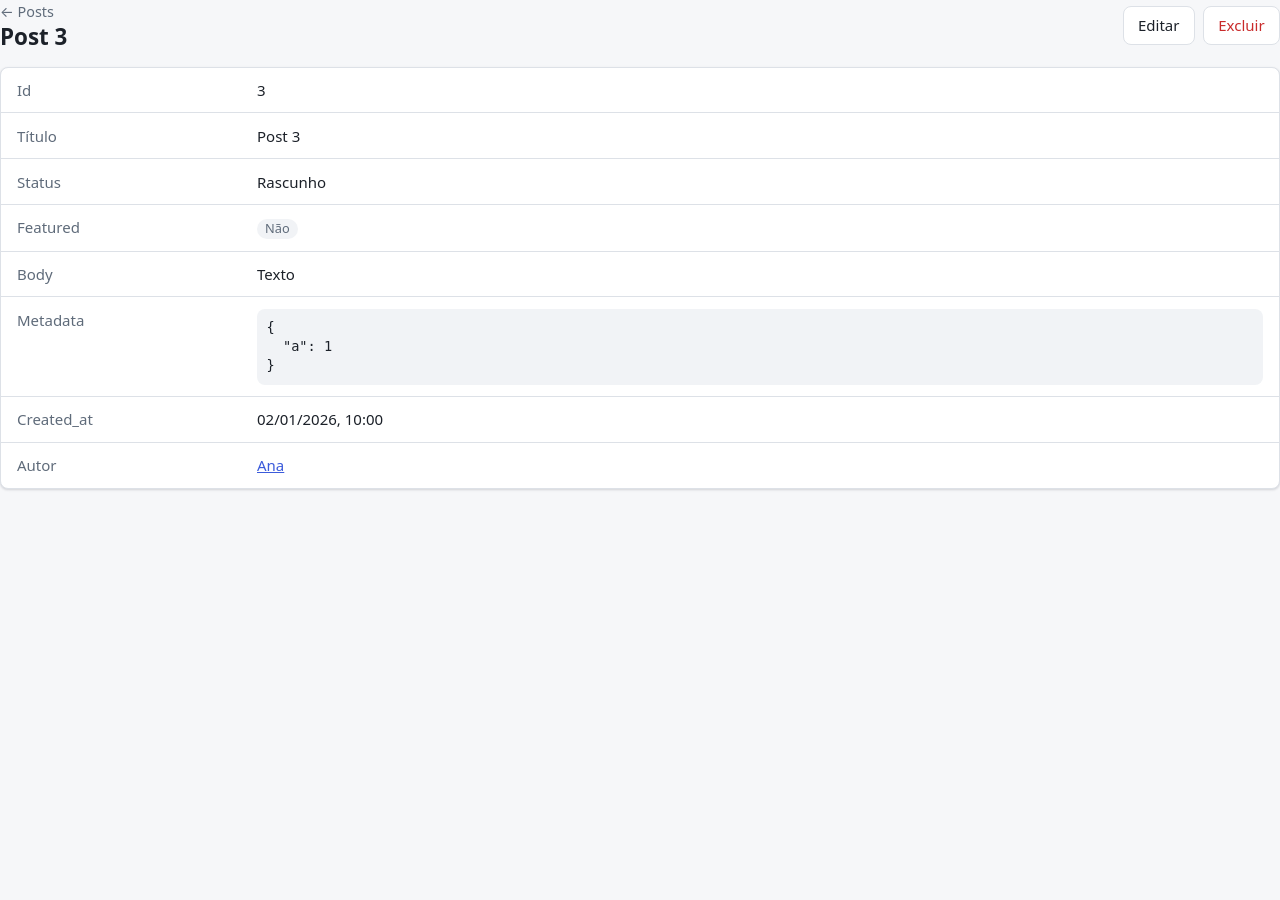
Test: cancels deletion with Escape
Click the button "Excluir" at (1241, 25), box [1203,6,1279,45]
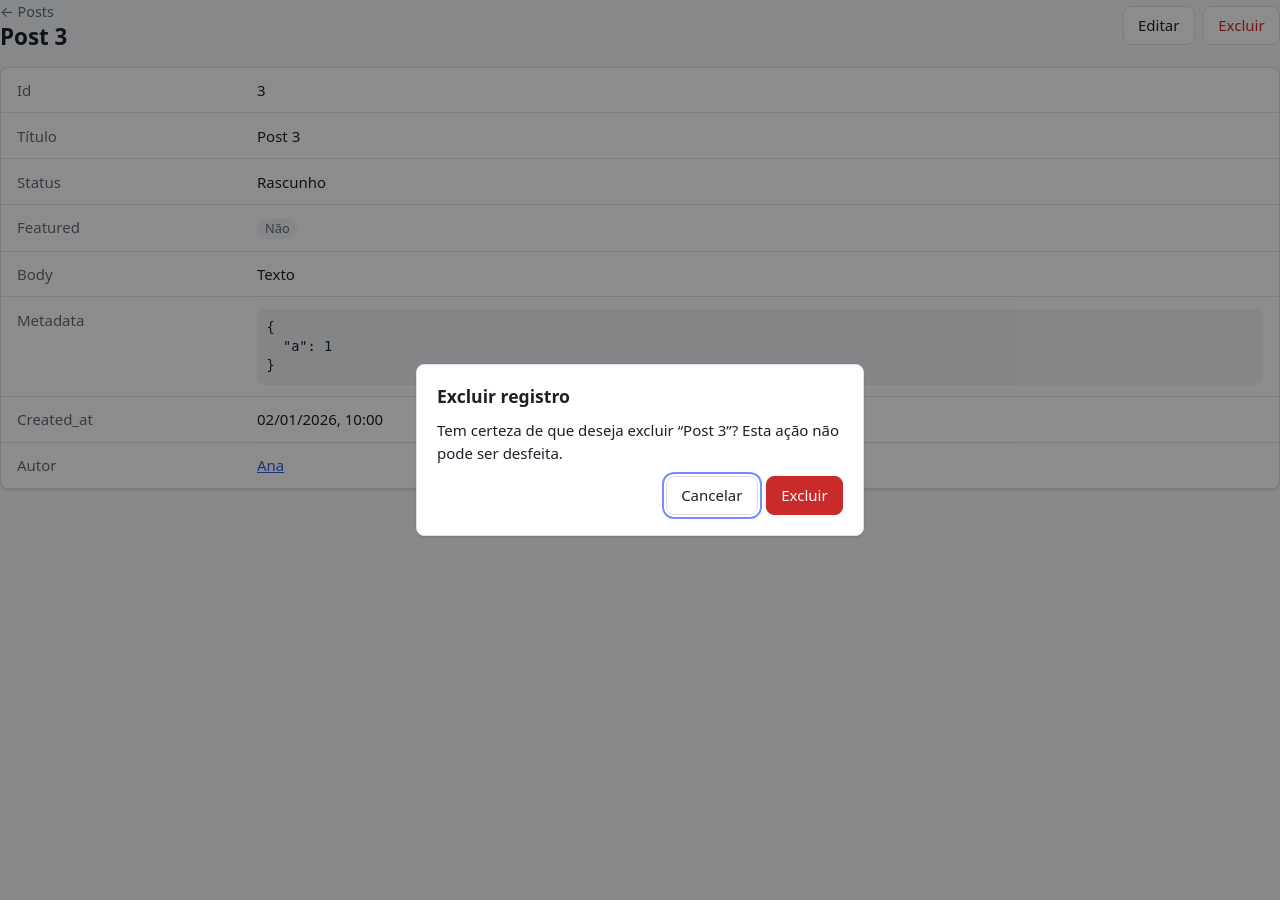
Press Escape
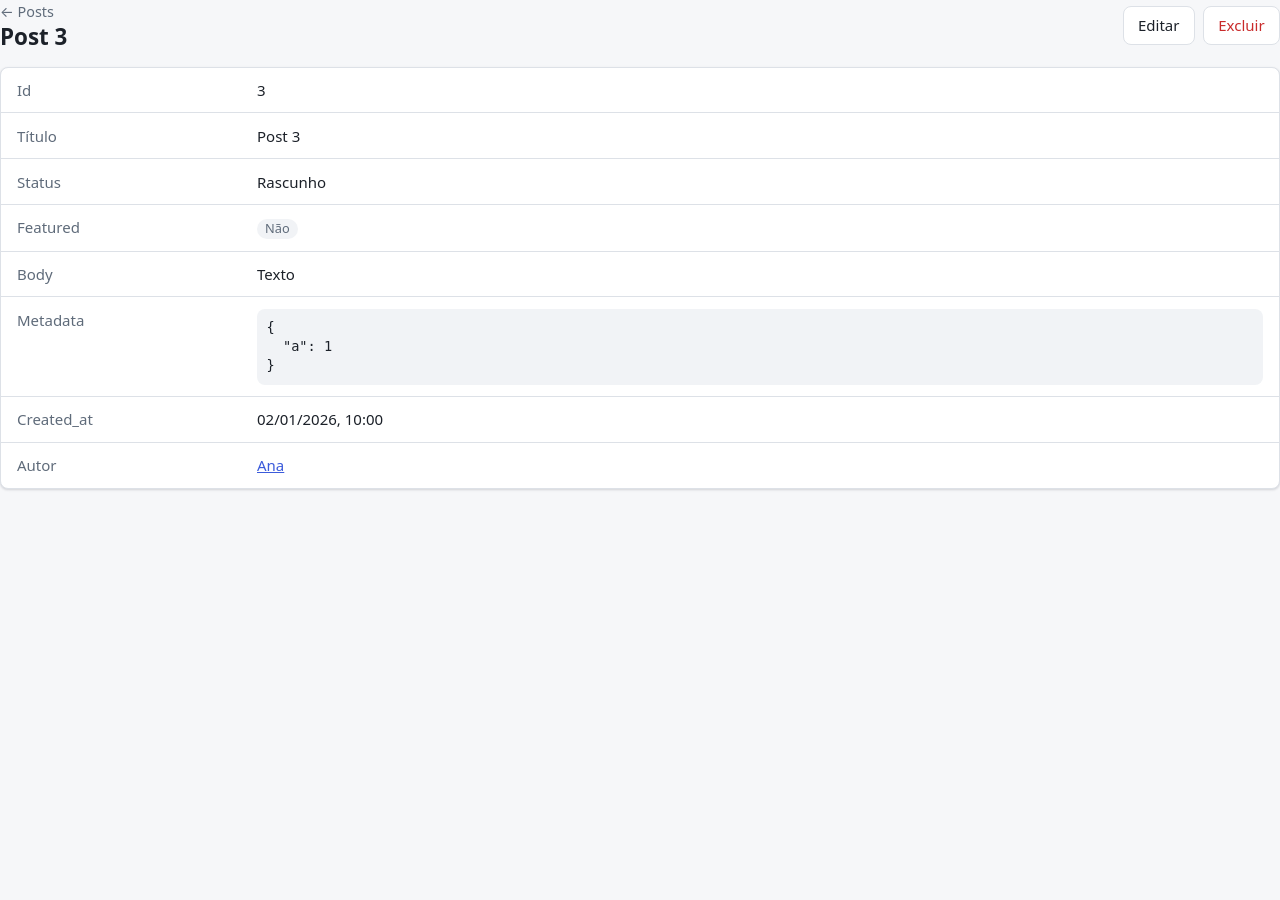
Check: the dialog is gone
